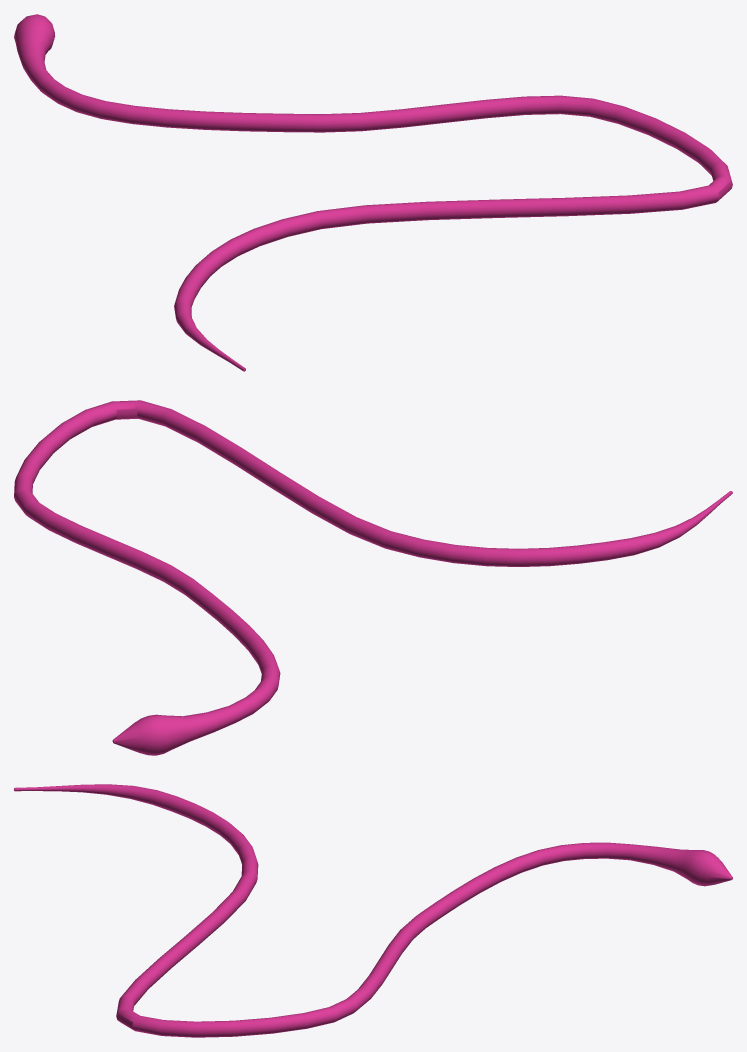
The model's file is Snake_2.fbx.
3 renders of one model, top to bottom at view 1: azimuth 30°, elevation 25°; view 2: azimuth 150°, elevation 25°; view 3: azimuth 270°, elevation 25°, orthographic. The views are drawn at different scales.
Visible parts, largest first — view 1: Snake_2; view 2: Snake_2; view 3: Snake_2.
Part boxes in pixels (x1,y1,x2,y2): Snake_2: (14, 14, 732, 371); Snake_2: (14, 400, 732, 755); Snake_2: (14, 784, 732, 1037).
Size of the model in its own units: 137 by 8.41 by 170.
